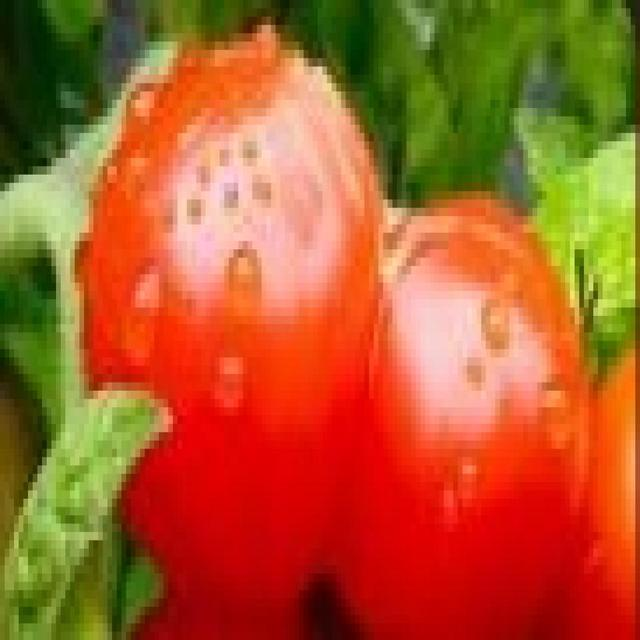Healthy Fruit: (157, 217, 319, 363)
